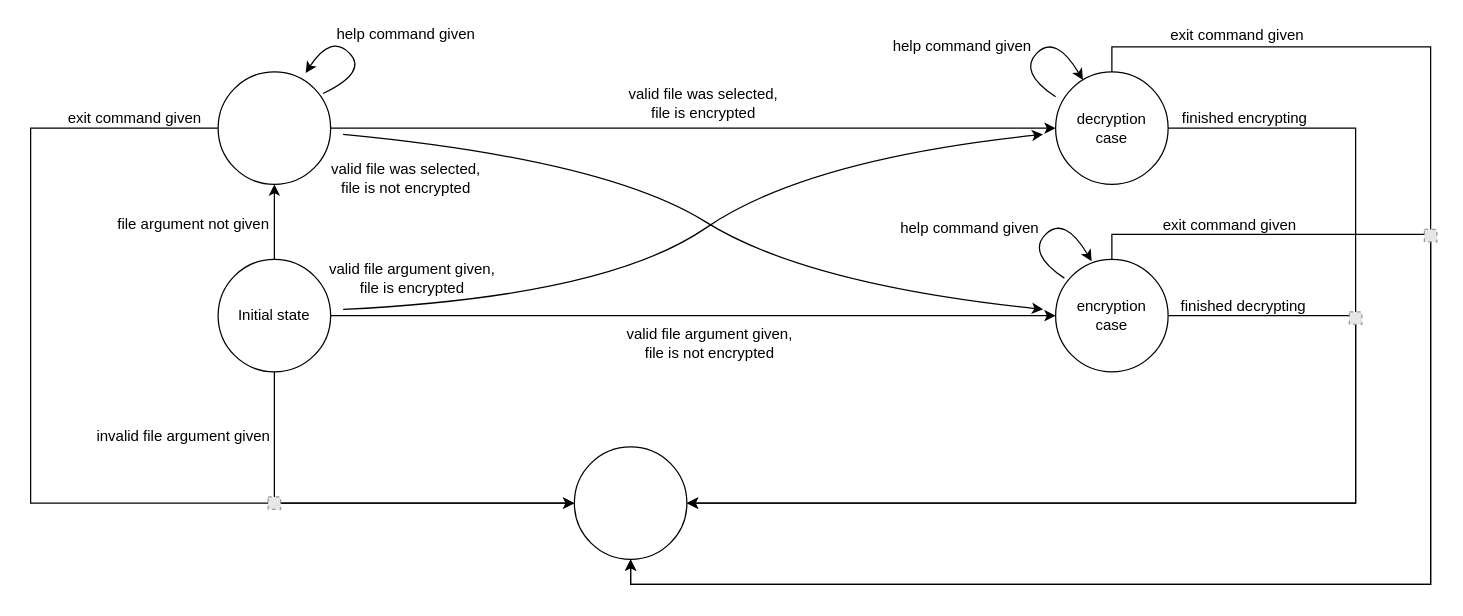
The diagram is 1463 pixels wide and 616 high, and some of its shapes have lost their labels. Grey dashed boxes stand in for pictures. Here are the shapes that lost their labels. From the top down, the centre of each, then its label:
point (274, 127): query file
point (630, 502): exit state
